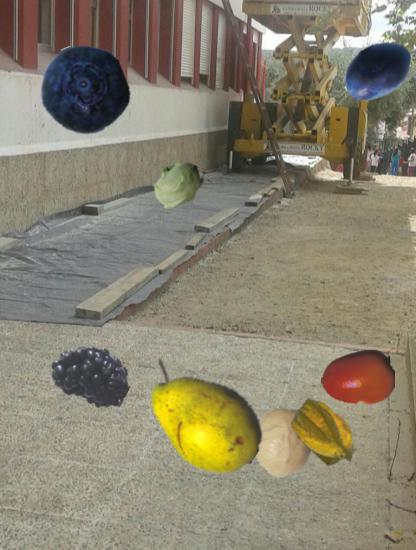Blueberry: (38, 44, 129, 135)
Kaki: (321, 340, 396, 415)
Kohlrabi: (150, 157, 203, 210)
Lemon: (245, 403, 322, 480)
Mulberry: (50, 333, 133, 416)
Pear: (132, 351, 268, 487)
Physalis: (287, 395, 365, 473)
Plum: (341, 34, 415, 108)
